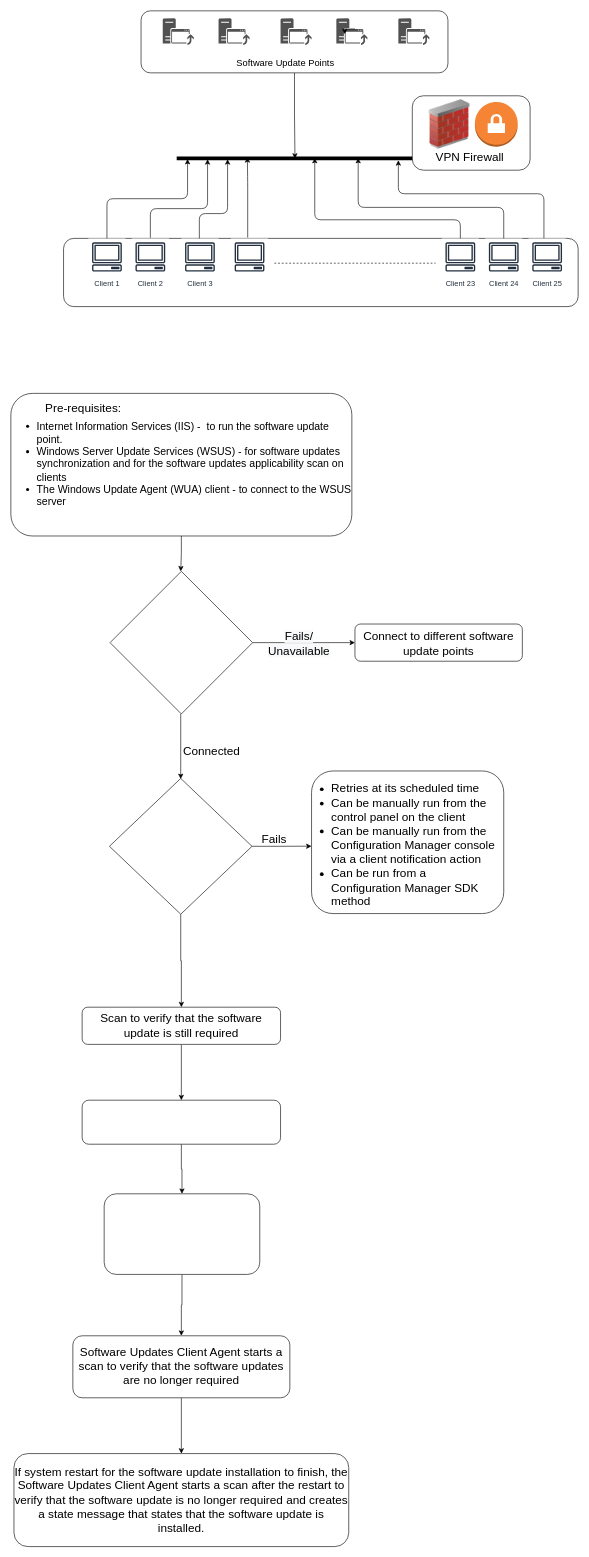
Some shapes in this 589 by 1557 pixel diagram are drawn without their labels. Here are the shapes that lost their labels. From the top down, the centre of each, then its label:
(249,257): Client 4
(181,642): Connect to software update points
(180,846): Scan for latest software updates
(181,1122): Automatic/Manual download of software update deployment packages
(182,1233): Deploy software updates Manual deployment Automatic deployment Phased deployment
